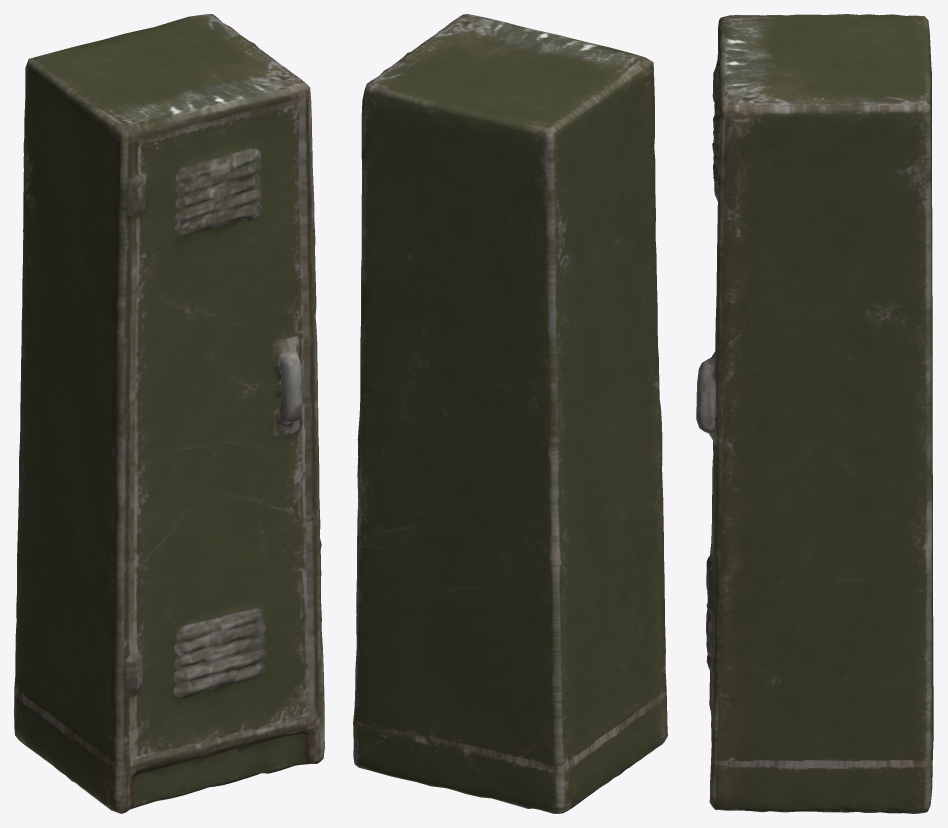
Rendered from bunker_locker_candidate.glb.
The picture shows the model from 3 angles, left to right: view 1: azimuth 30°, elevation 25°; view 2: azimuth 150°, elevation 25°; view 3: azimuth 270°, elevation 25°; orthographic projection. The views are drawn at different scales.
Parts seen in each view (by area): view 1: bunker_locker_candidate; view 2: bunker_locker_candidate; view 3: bunker_locker_candidate.
Part boxes in pixels (bbox=[...]): bunker_locker_candidate: bbox=[14, 14, 324, 813]; bunker_locker_candidate: bbox=[353, 14, 667, 813]; bunker_locker_candidate: bbox=[696, 14, 933, 813].
Bounding box in the file's own units: 0.62 × 1.9 × 0.58.
1 material, 1 textured.
